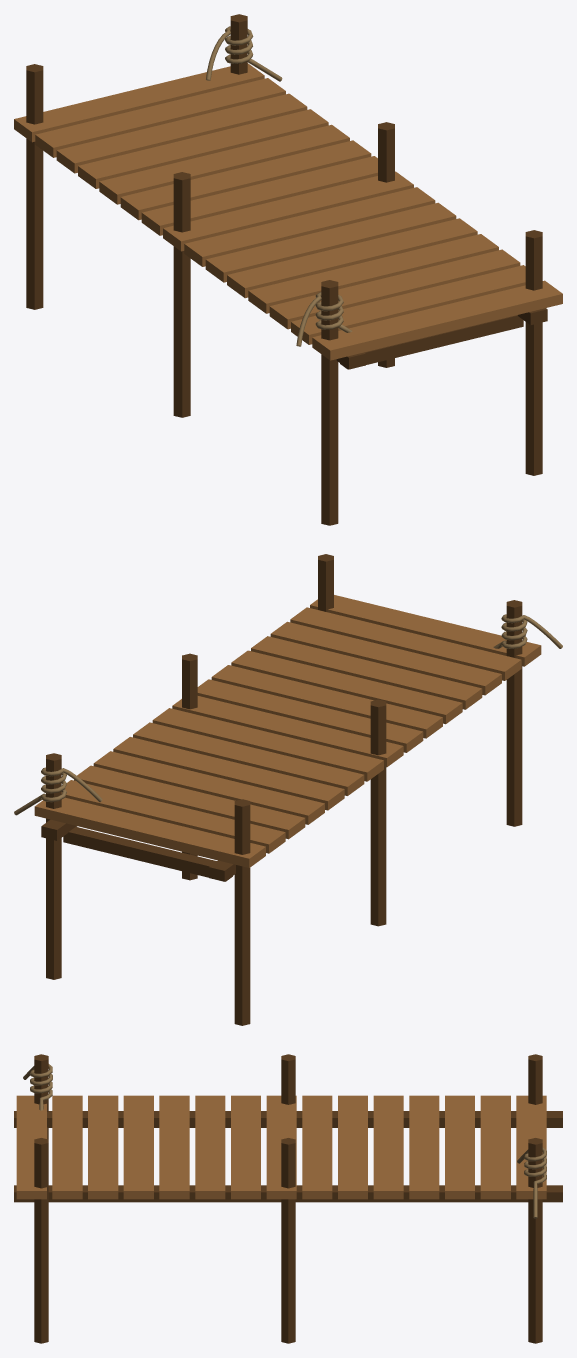
The model's file is Dock.fbx.
3 views of the same model, one above another, from view 1: azimuth 30°, elevation 25°; view 2: azimuth 150°, elevation 25°; view 3: azimuth 270°, elevation 25° (orthographic). The views are drawn at different scales.
Visible parts, largest first — view 1: Dock_DockDeckMat.002, Dock_DockStructMat.002, Dock_RopeMat.002; view 2: Dock_DockDeckMat.002, Dock_DockStructMat.002, Dock_RopeMat.002; view 3: Dock_DockDeckMat.002, Dock_DockStructMat.002, Dock_RopeMat.002.
Boxes of the visible parts, bbox=[...] form: Dock_DockDeckMat.002: bbox=[14, 63, 562, 360]; Dock_DockStructMat.002: bbox=[26, 14, 547, 525]; Dock_RopeMat.002: bbox=[206, 26, 352, 346]; Dock_DockDeckMat.002: bbox=[34, 595, 541, 867]; Dock_DockStructMat.002: bbox=[41, 554, 522, 1025]; Dock_RopeMat.002: bbox=[14, 614, 562, 815]; Dock_DockDeckMat.002: bbox=[16, 1095, 546, 1199]; Dock_DockStructMat.002: bbox=[14, 1054, 562, 1343]; Dock_RopeMat.002: bbox=[23, 1064, 546, 1218].
Size of the model in its own units: 766 by 600 by 1500.
